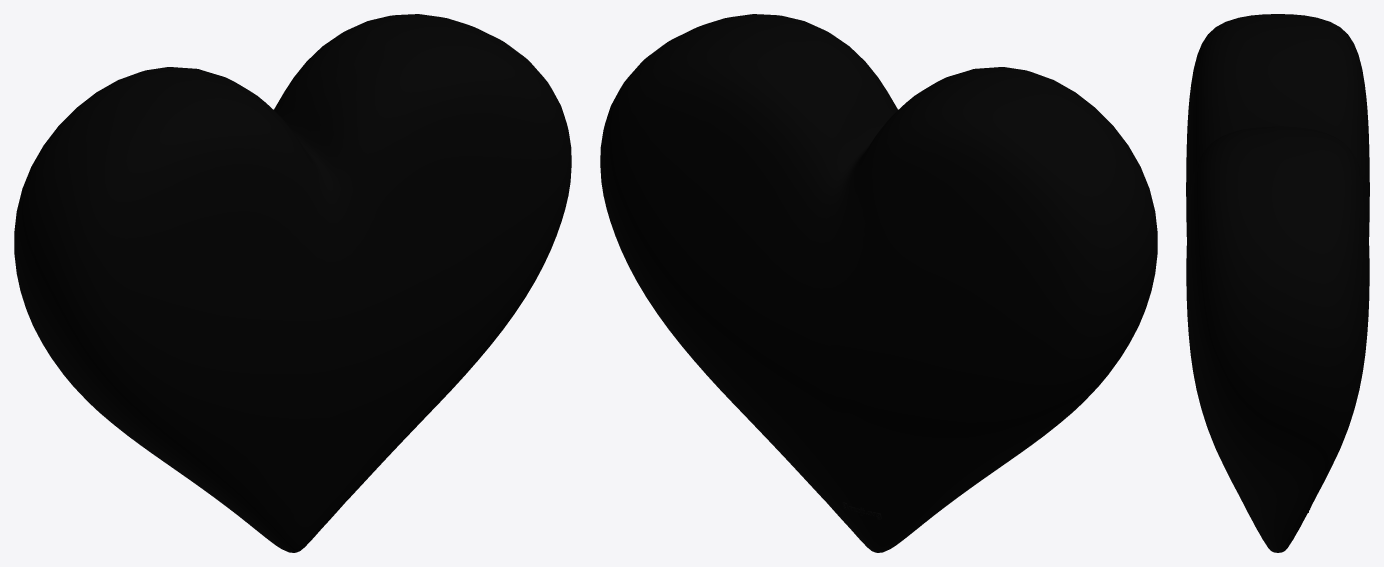
The model's file is black_heart.gltf.
3 renders of one model, left to right at view 1: azimuth 30°, elevation 25°; view 2: azimuth 150°, elevation 25°; view 3: azimuth 270°, elevation 25°, orthographic. The views are drawn at different scales.
Parts seen in each view (by area): view 1: hfdjkslfjkds.025; view 2: hfdjkslfjkds.025; view 3: hfdjkslfjkds.025.
Part boxes in pixels (bbox=[...]): hfdjkslfjkds.025: bbox=[14, 14, 571, 552]; hfdjkslfjkds.025: bbox=[600, 14, 1157, 552]; hfdjkslfjkds.025: bbox=[1186, 14, 1369, 552].
Size of the model in its own units: 1.86 by 1.68 by 0.5956.
Materials: 1 (1 with a texture image).
